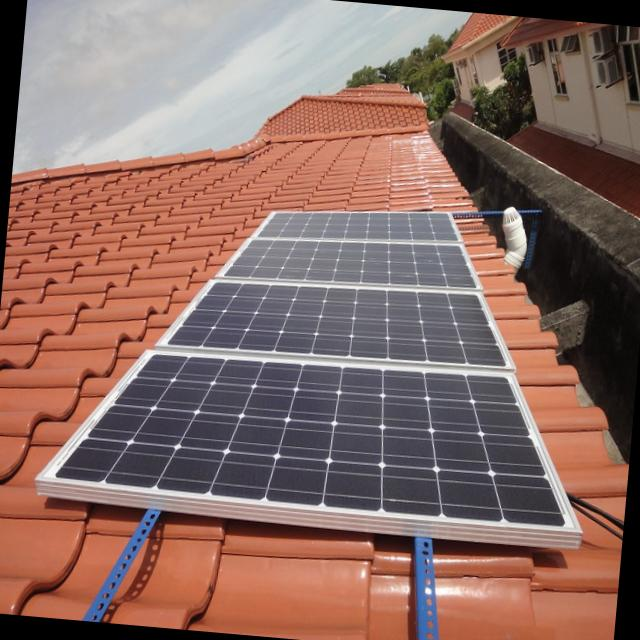faulty: (48, 212, 572, 521)
